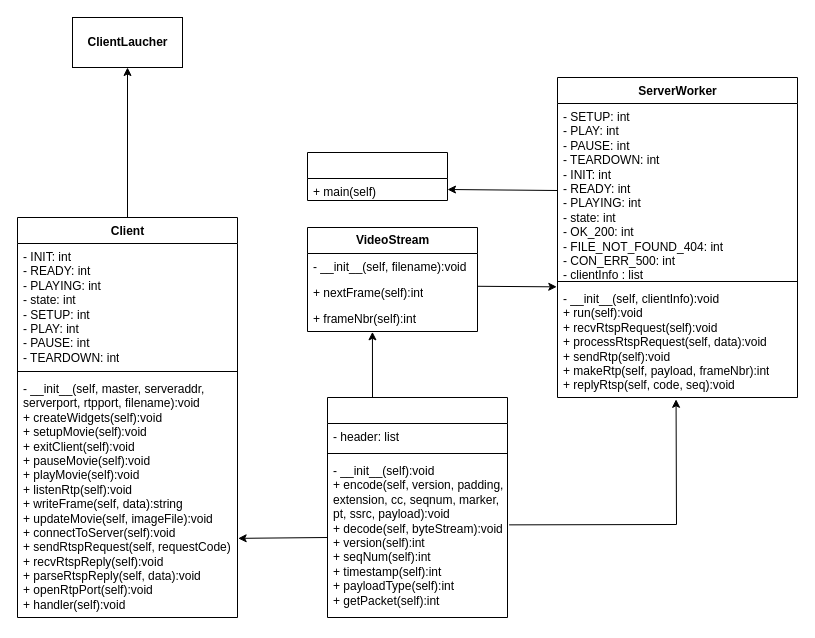
The diagram is 815 pixels wide and 638 high, and some of its shapes have lost their labels. Here are the shapes that lost their labels. From the top down, the box of each, then its label:
(306, 152, 448, 200): Server
(326, 396, 508, 618): RtpPacket
